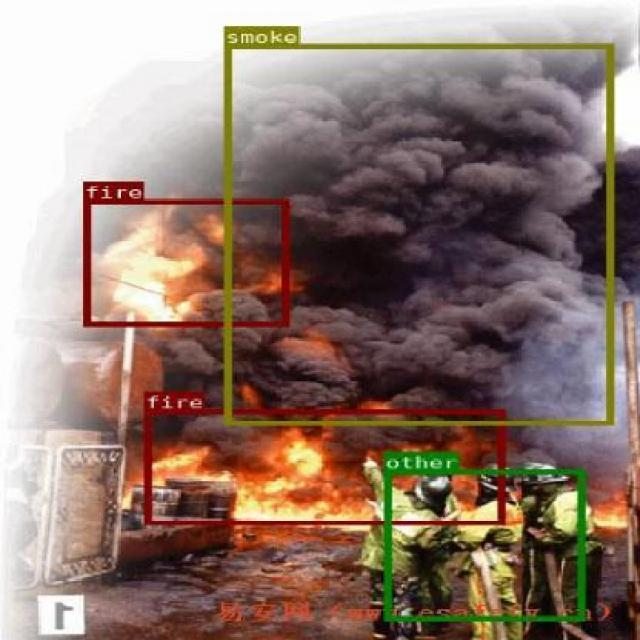Fire: (143, 408, 503, 524), (81, 200, 288, 326)
Smoke: (223, 44, 612, 424), (160, 330, 220, 380)
